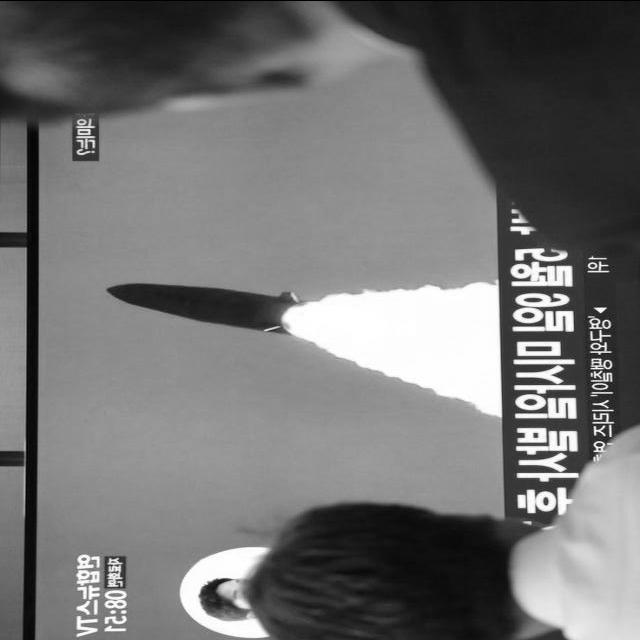missile: (99, 278, 304, 340)
